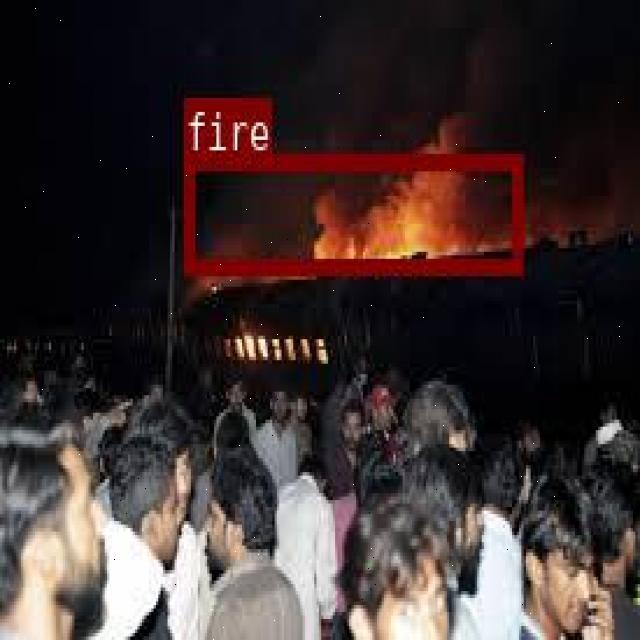fire: (182, 153, 520, 271)
